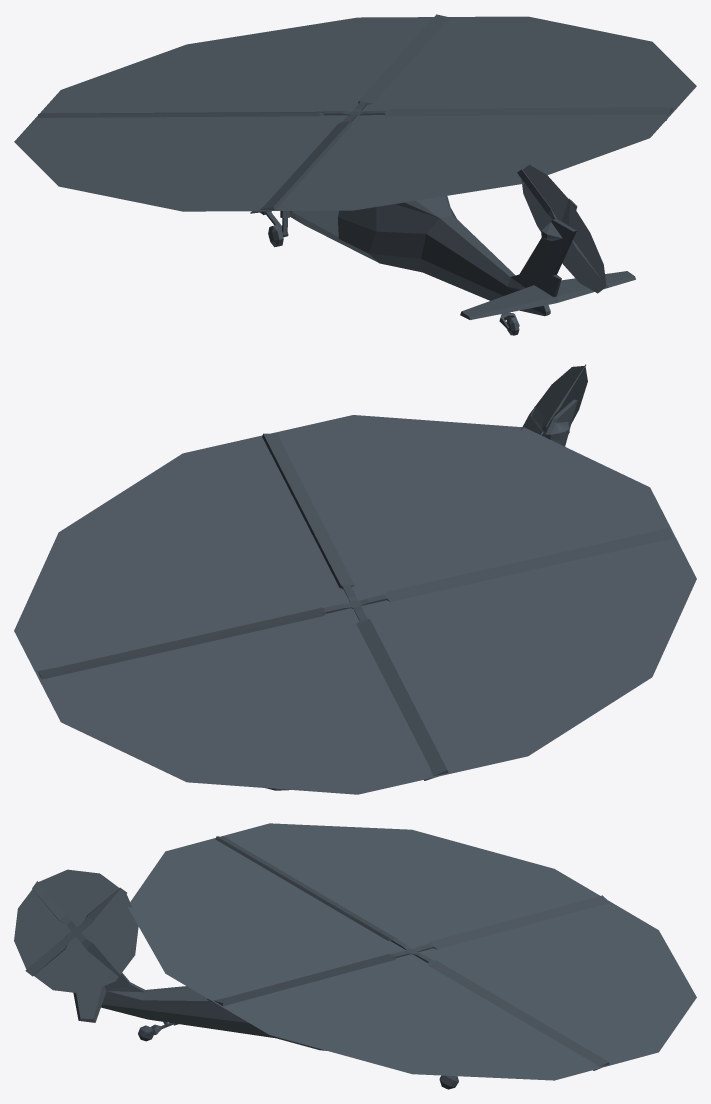
File: Heli-Blackhawk.glb
The picture shows the model from 3 angles, top to bottom: view 1: azimuth 30°, elevation 25°; view 2: azimuth 150°, elevation 25°; view 3: azimuth 270°, elevation 25°; orthographic projection. The views are drawn at different scales.
Bounding box in the file's own units: 16.78 × 6.1 × 19.81.
